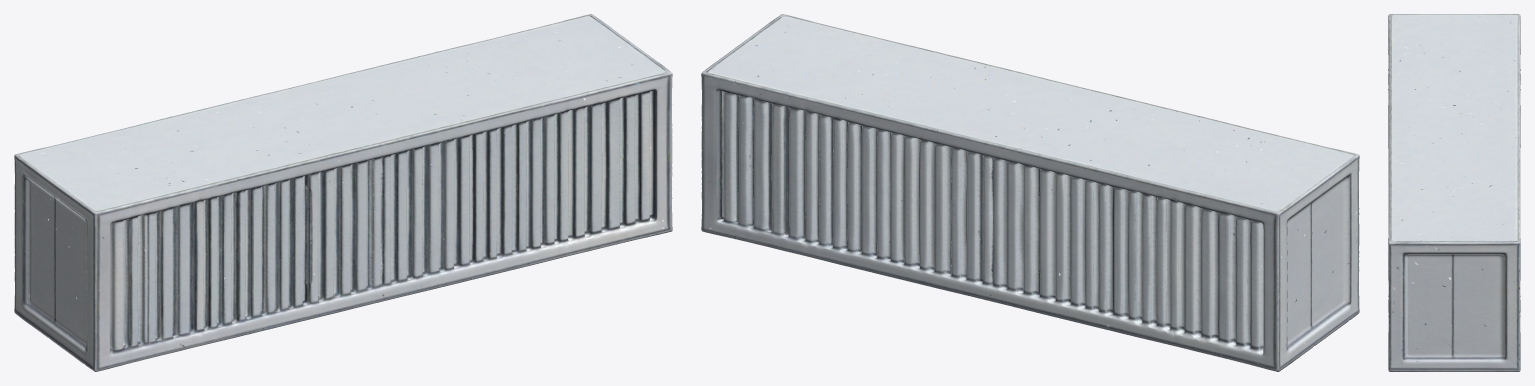
The model's file is 40HQ.original.glb.
3 views of the same model, side by side, from view 1: azimuth 30°, elevation 25°; view 2: azimuth 150°, elevation 25°; view 3: azimuth 270°, elevation 25° (orthographic). The views are drawn at different scales.
Size of the model in its own units: 2 by 0.5269 by 0.488.
Materials: 1 (1 with a texture image).
